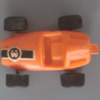naranja_oeste: (1, 15, 99, 89)
